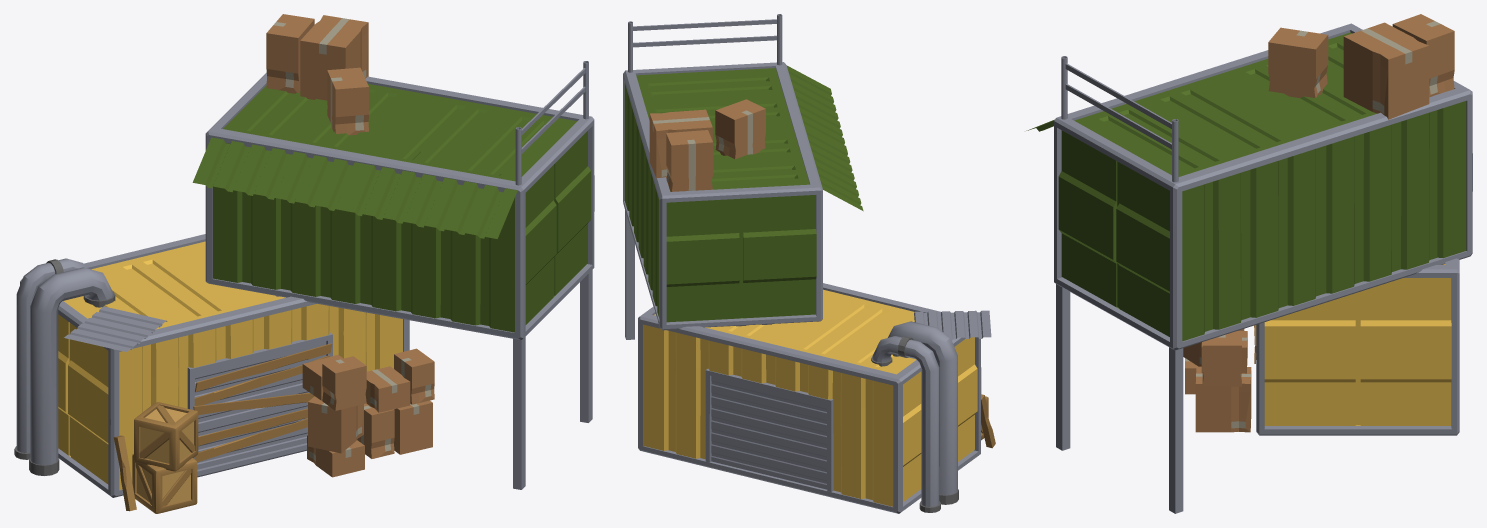
File: prop-structure-2.glb
The picture shows the model from 3 angles, left to right: view 1: azimuth 30°, elevation 25°; view 2: azimuth 150°, elevation 25°; view 3: azimuth 270°, elevation 25°; orthographic projection. The views are drawn at different scales.
Parts seen in each view (by area): view 1: Structure_2; view 2: Structure_2; view 3: Structure_2.
Boxes of the visible parts, bbox=[...] form: Structure_2: bbox=[14, 14, 594, 513]; Structure_2: bbox=[623, 14, 995, 513]; Structure_2: bbox=[1026, 14, 1472, 513].
Size of the model in its own units: 10.58 by 7.79 by 7.97.
